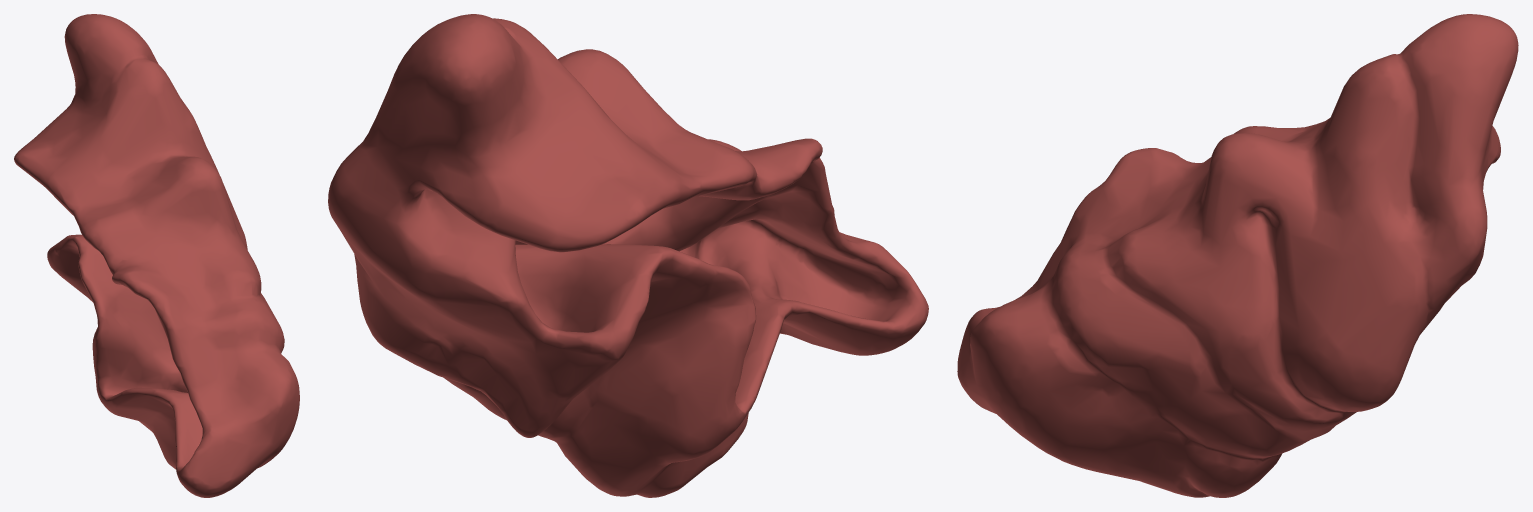
The model's file is FMA72702.glb.
The picture shows the model from 3 angles, left to right: view 1: azimuth 30°, elevation 25°; view 2: azimuth 150°, elevation 25°; view 3: azimuth 270°, elevation 25°; orthographic projection. The views are drawn at different scales.
Visible parts, largest first — view 1: FMA72702; view 2: FMA72702; view 3: FMA72702.
Part boxes in pixels (bbox=[...]): FMA72702: bbox=[14, 14, 299, 497]; FMA72702: bbox=[328, 14, 928, 497]; FMA72702: bbox=[957, 14, 1518, 497].
Size of the model in its own units: 0.0334 by 0.0576 by 0.06.
